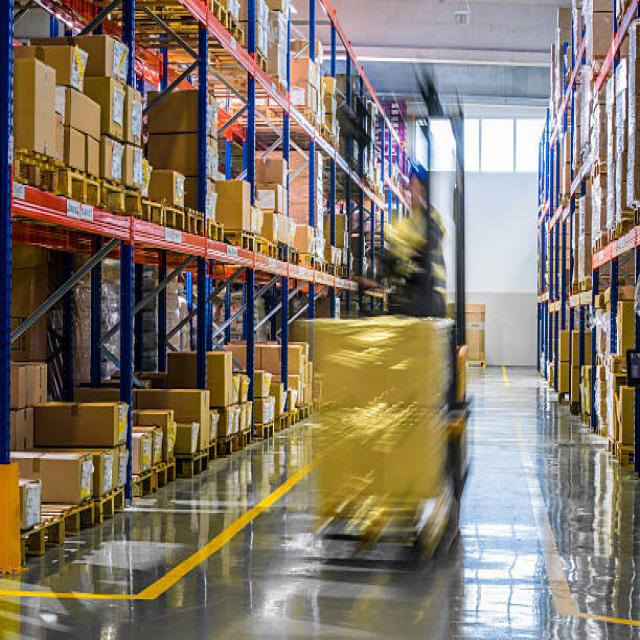Wooden-Pallets: (16, 509, 67, 563), (62, 157, 102, 224), (135, 194, 171, 250), (96, 481, 129, 530), (182, 204, 210, 241), (184, 446, 212, 483), (235, 222, 260, 257)
